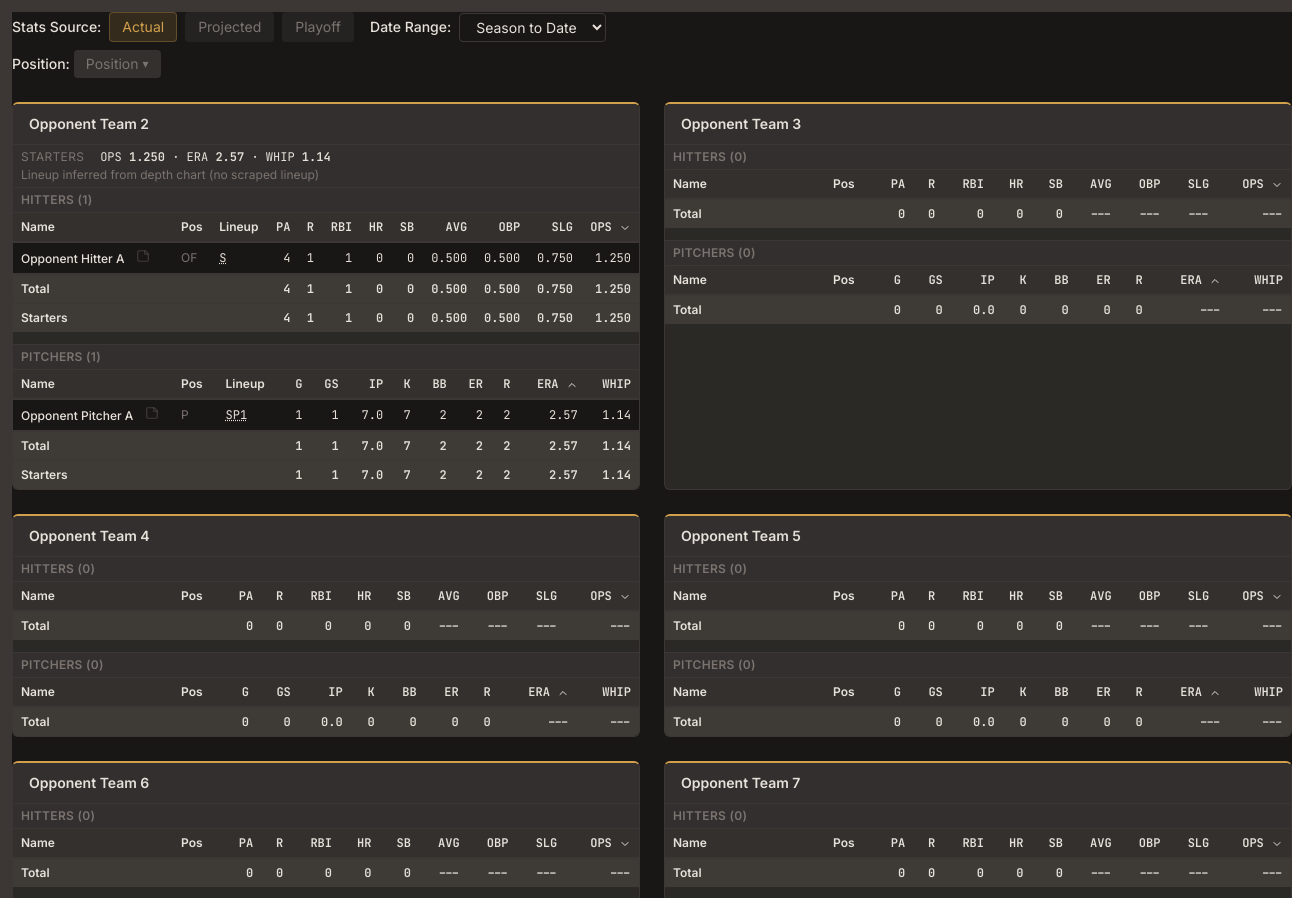
Test: OpponentsGrid › filters out non-matching hitters when a position is selected
Expected: the link "Opponent Hitter A" is shown, x1=21 y1=251 x2=124 y2=266
# Open Position dropdown and select "1B" (hitter is OF, so won't match)
Click the button "Position ▾" at (117, 64), box x1=74 y1=50 x2=160 y2=78
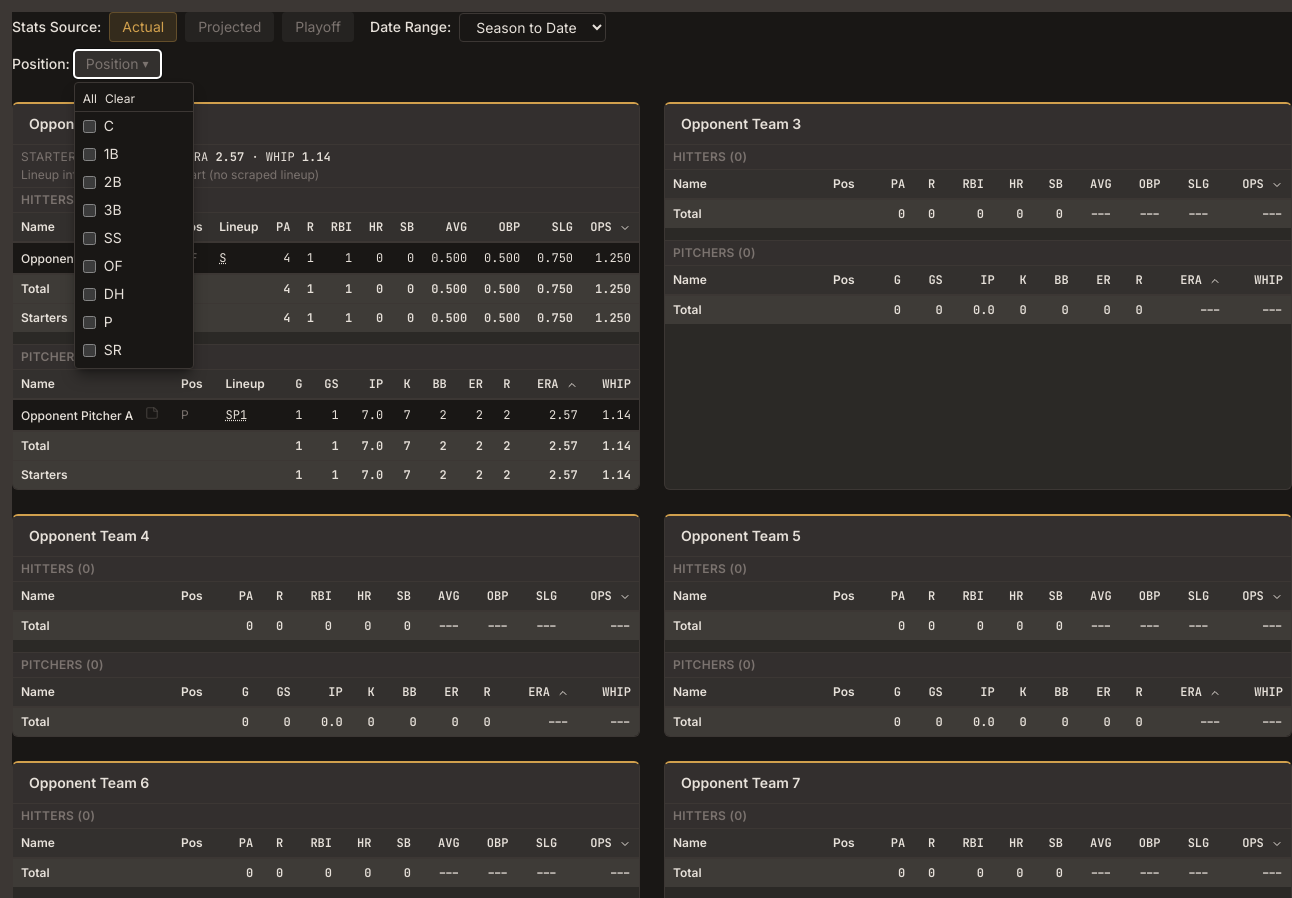
Click the checkbox labelled "1B" at (89, 154), box x1=83 y1=148 x2=96 y2=160
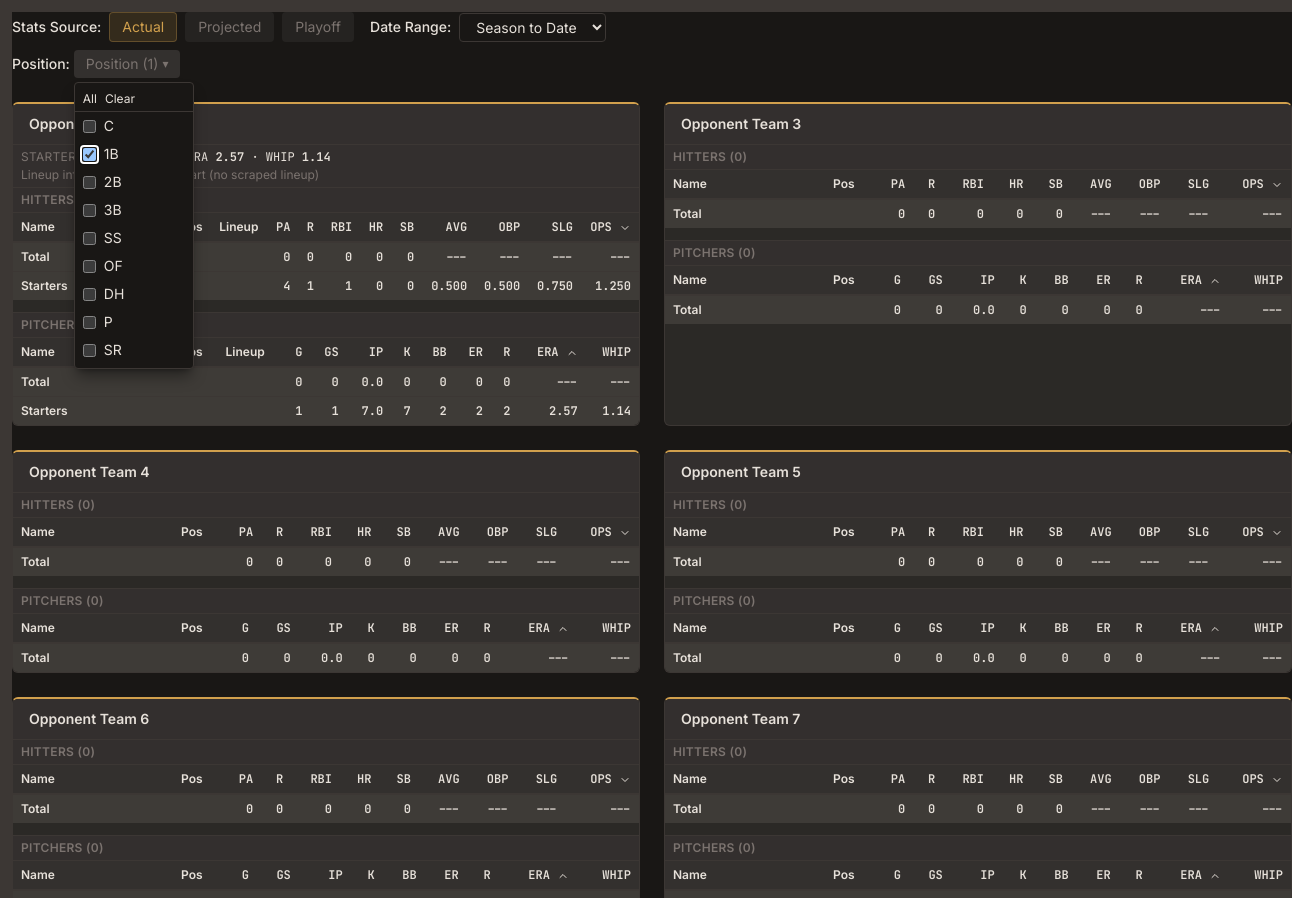
Result: the link "Opponent Hitter A" is gone
